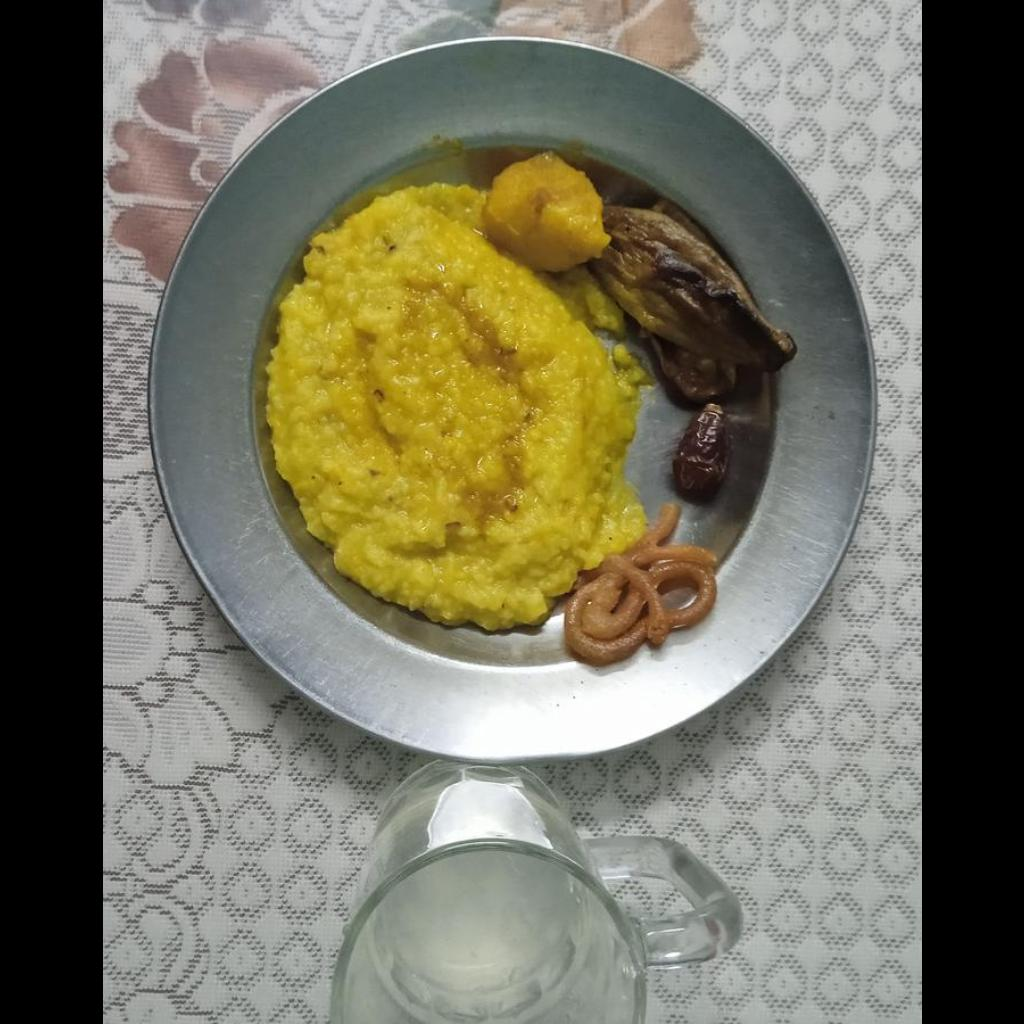dates: (672, 409, 734, 499)
jilapi: (564, 510, 714, 661)
khichuri: (268, 186, 657, 614)
potato: (480, 154, 607, 271)
potol: (599, 209, 792, 392)
